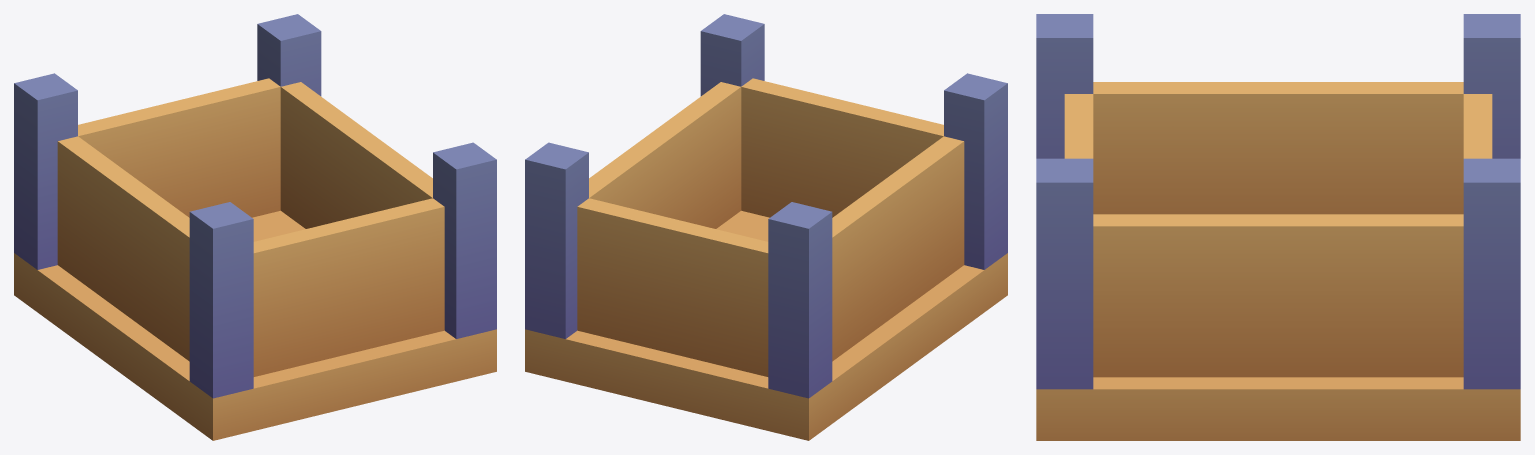
Rendered from crate.fbx.
3 views of the same model, side by side, from view 1: azimuth 30°, elevation 25°; view 2: azimuth 150°, elevation 25°; view 3: azimuth 270°, elevation 25° (orthographic). The views are drawn at different scales.
Parts seen in each view (by area): view 1: crate; view 2: crate; view 3: crate.
Boxes of the visible parts, x1,y1,x2,y2 form: crate: (14, 14, 496, 440); crate: (525, 14, 1007, 440); crate: (1036, 14, 1520, 440).
Size of the model in its own units: 108 by 77 by 131.
